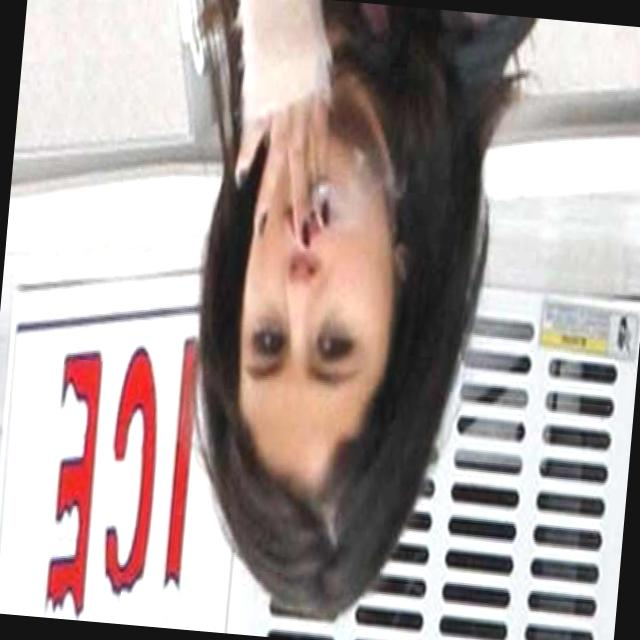smoke: (284, 161, 346, 247)
